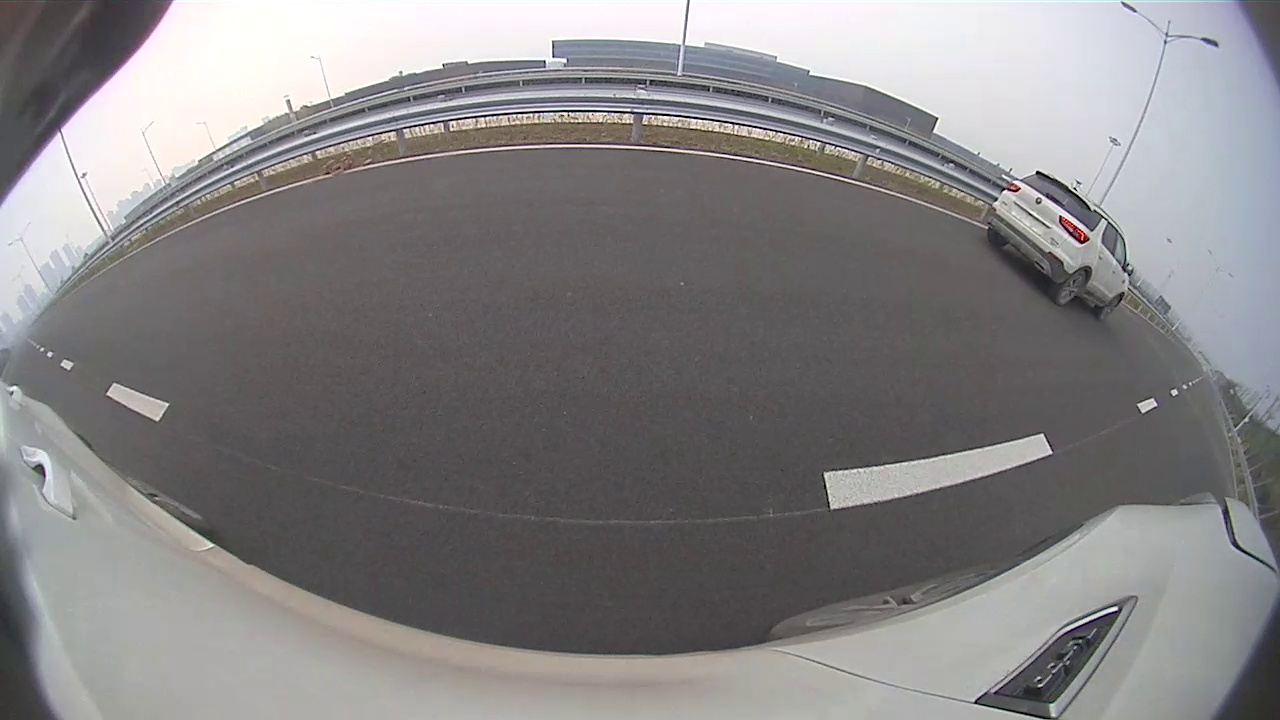car: (986, 169, 1133, 321)
front: (1097, 290, 1125, 324)
rear: (1054, 269, 1089, 308)
